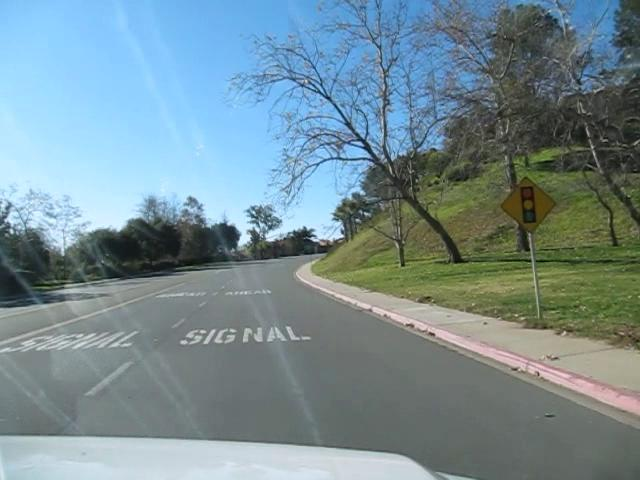signalAhead: (499, 175, 557, 234)
